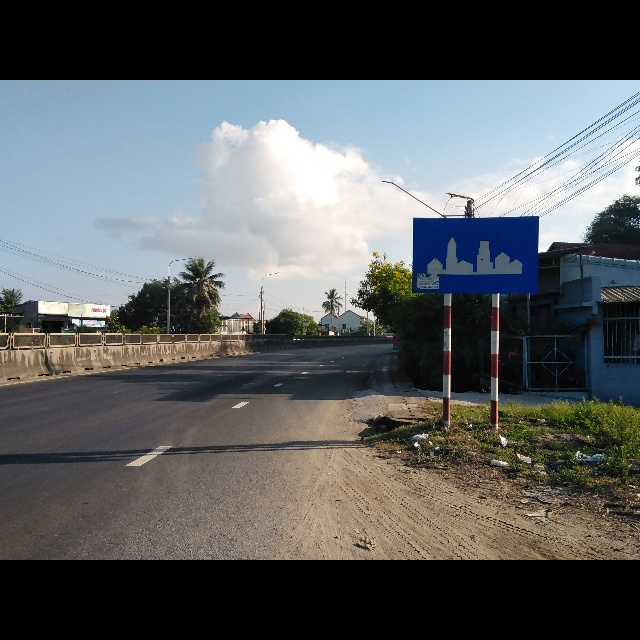Khu đông dân cư: (414, 217, 541, 296)
